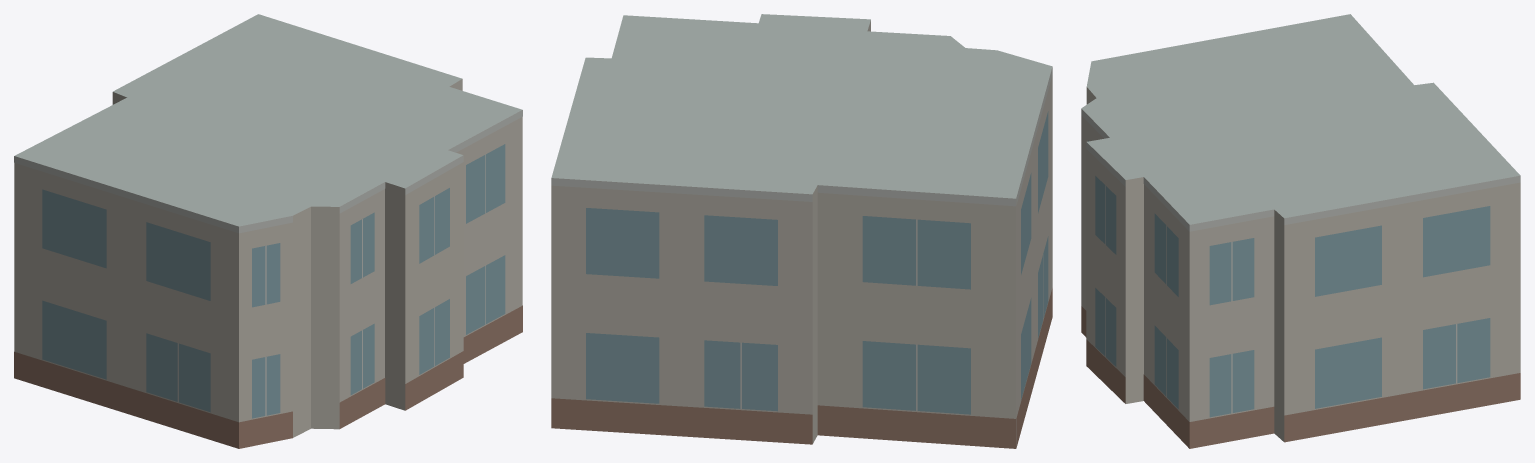
Rendered from survey-upis-32862895.glb.
3 views of the same model, side by side, from view 1: azimuth 30°, elevation 25°; view 2: azimuth 150°, elevation 25°; view 3: azimuth 270°, elevation 25° (orthographic). The views are drawn at different scales.
Visible parts, largest first — view 1: survey-upis-32862895.tmp; view 2: survey-upis-32862895.tmp; view 3: survey-upis-32862895.tmp.
Boxes of the visible parts, <box> form: survey-upis-32862895.tmp: <box>14,14,522,448</box>; survey-upis-32862895.tmp: <box>551,14,1052,448</box>; survey-upis-32862895.tmp: <box>1081,14,1520,448</box>.
Size of the model in its own units: 16.06 by 7.95 by 14.14.
